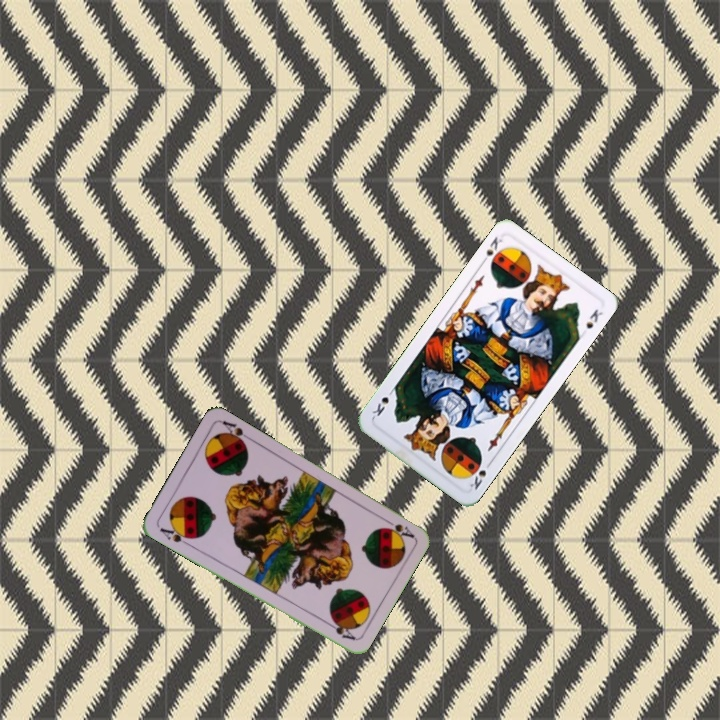SA: (379, 514, 417, 541), (156, 522, 195, 548)
SK: (478, 232, 507, 270), (466, 457, 495, 492)
